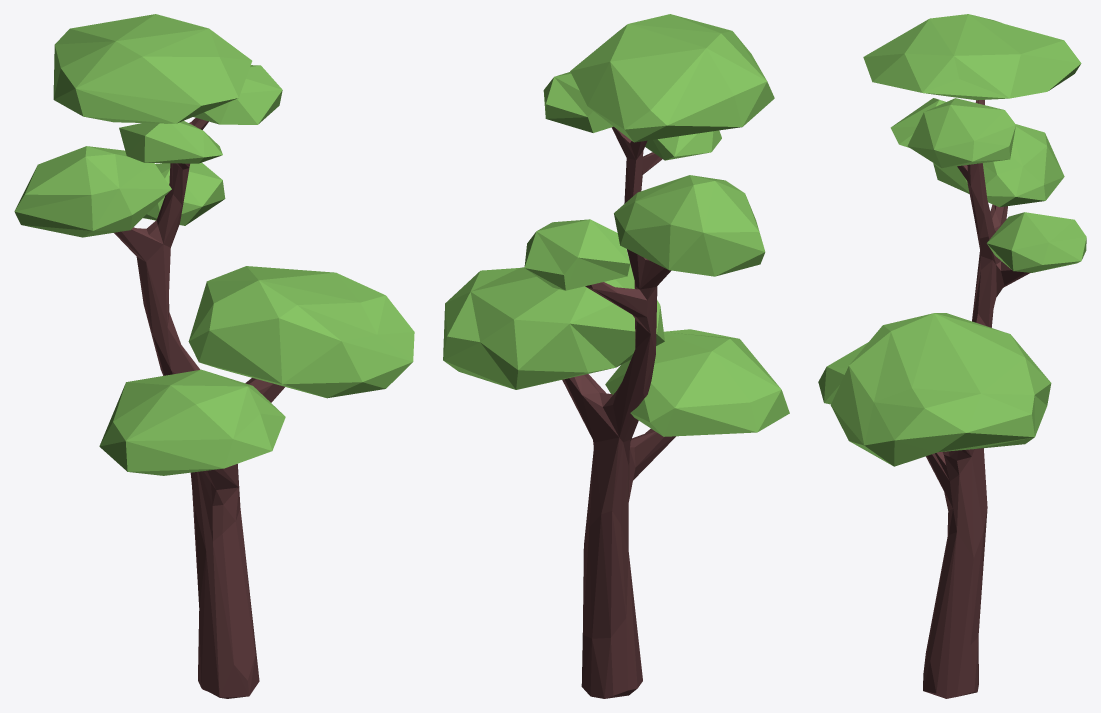
File: tree-open.obj
The picture shows the model from 3 angles, left to right: view 1: azimuth 30°, elevation 25°; view 2: azimuth 150°, elevation 25°; view 3: azimuth 270°, elevation 25°; orthographic projection. The views are drawn at different scales.
Parts seen in each view (by area): view 1: leaves_Icosphere, trunk_Cube; view 2: leaves_Icosphere, trunk_Cube; view 3: leaves_Icosphere, trunk_Cube.
Boxes of the visible parts, x1=… form: leaves_Icosphere: x1=14, y1=14, x2=414, y2=475; trunk_Cube: x1=114, y1=118, x2=284, y2=698; leaves_Icosphere: x1=443, y1=14, x2=789, y2=436; trunk_Cube: x1=562, y1=126, x2=675, y2=698; leaves_Icosphere: x1=818, y1=14, x2=1086, y2=466; trunk_Cube: x1=923, y1=100, x2=1030, y2=698.
Bounding box in the file's own units: 4.75 × 8.9 × 3.45.
